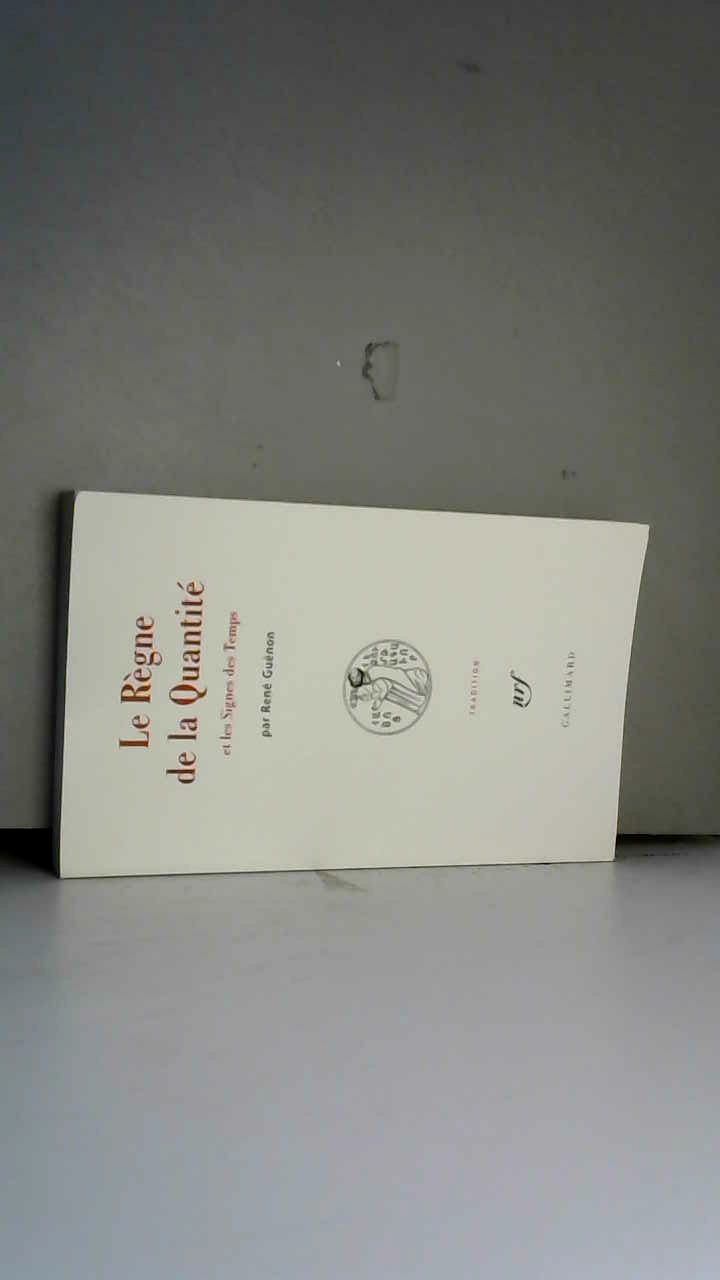book: (28, 468, 673, 909)
